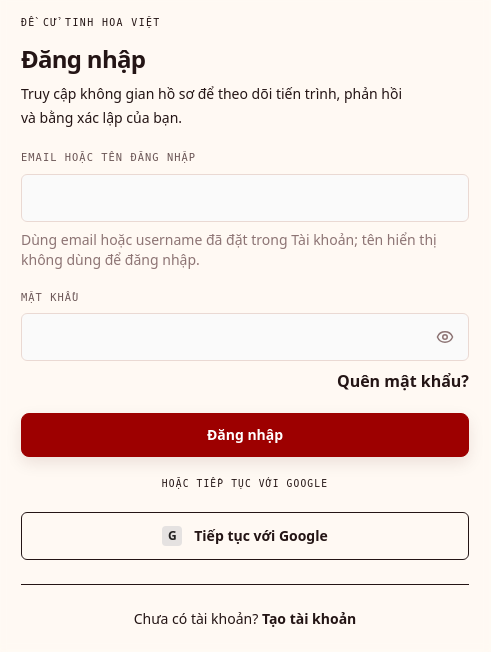
LoginForm › shows accessible field errors before making a request
Click the button "Đăng nhập".
click(245, 435)  # box top-left (21, 413), bottom-right (469, 457)
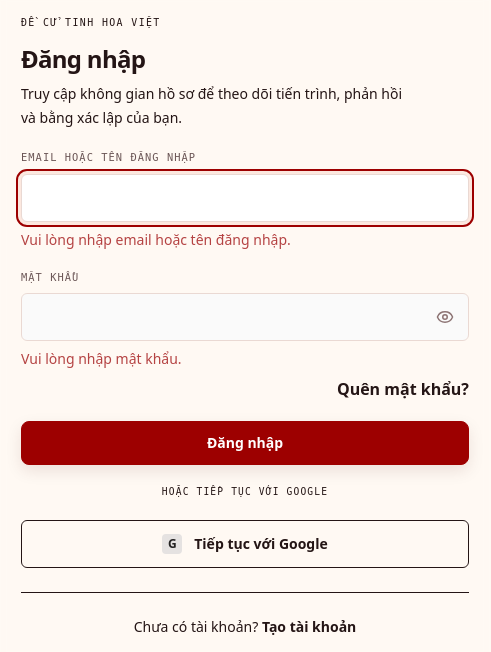
Now the text "Vui lòng nhập email hoặc tên đăng nhập." is shown, box top-left (21, 230), bottom-right (291, 249)
Now the text "Vui lòng nhập mật khẩu." is shown, box top-left (21, 349), bottom-right (182, 368)
